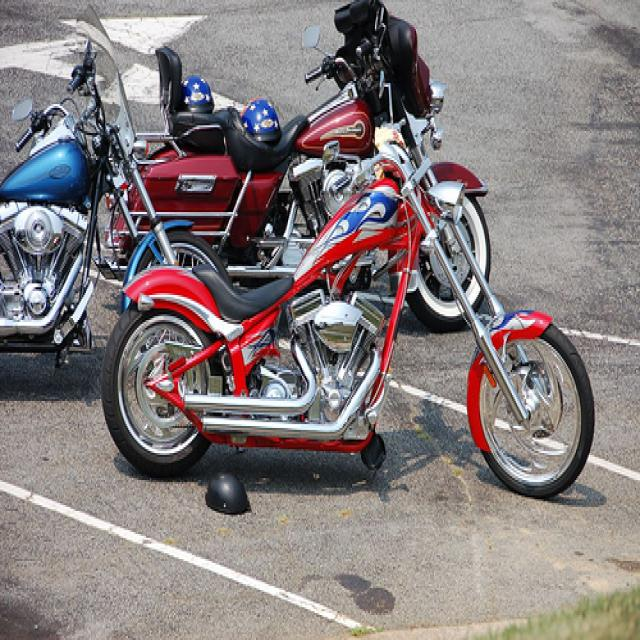motorbike: (100, 73, 596, 501), (106, 1, 492, 333), (1, 6, 231, 367)
